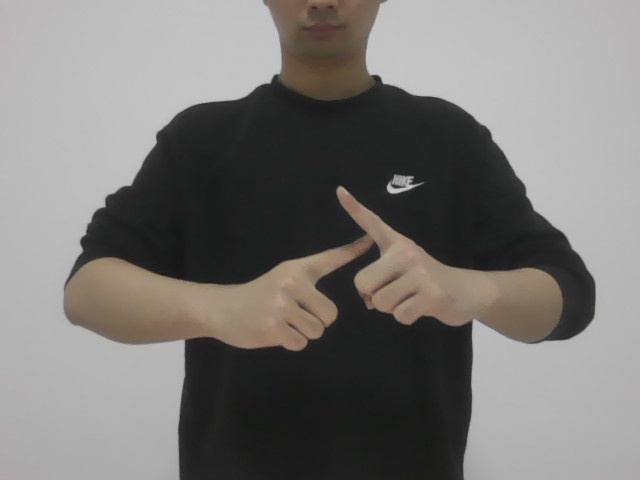peason: (238, 191, 453, 345)
